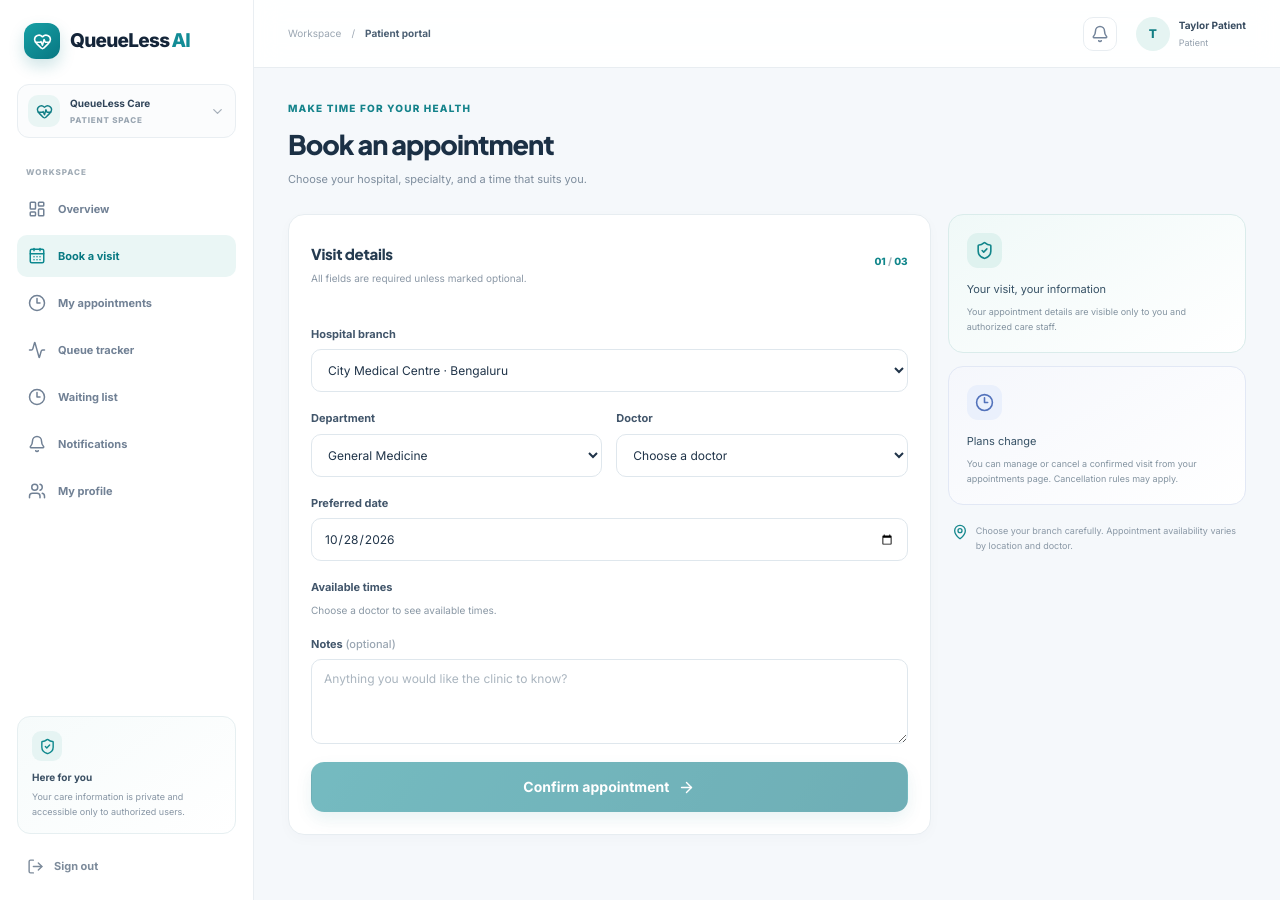
Test: QueueLess application › books an appointment without issuing a queue token before check-in
The image size is (1280, 900).
Select "Dr. Example" in the dropdown labelled "Doctor". click: (762, 455)
box: [616, 434, 908, 477]
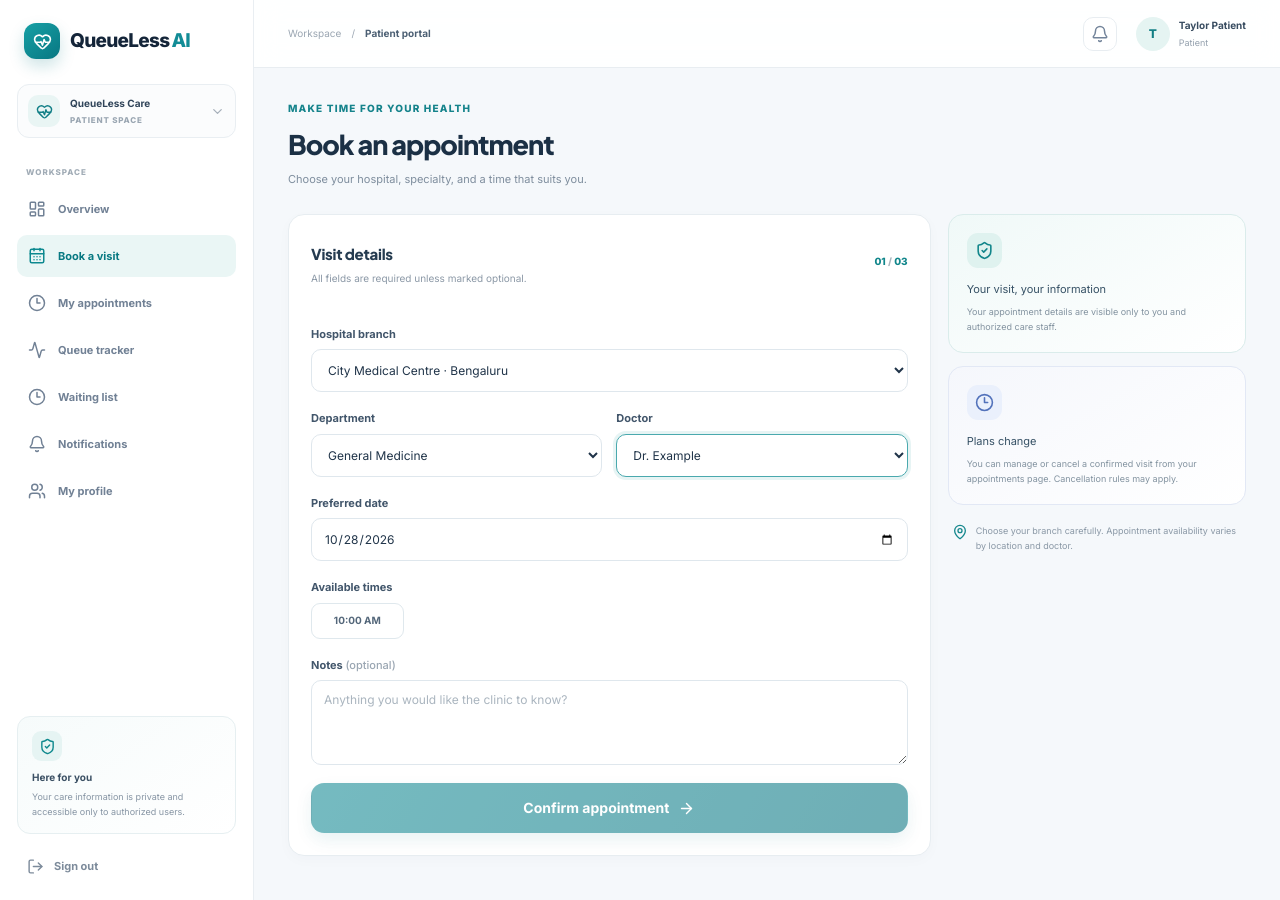
Click the button "10:00 AM". click: click(357, 621)
box: [311, 603, 404, 639]
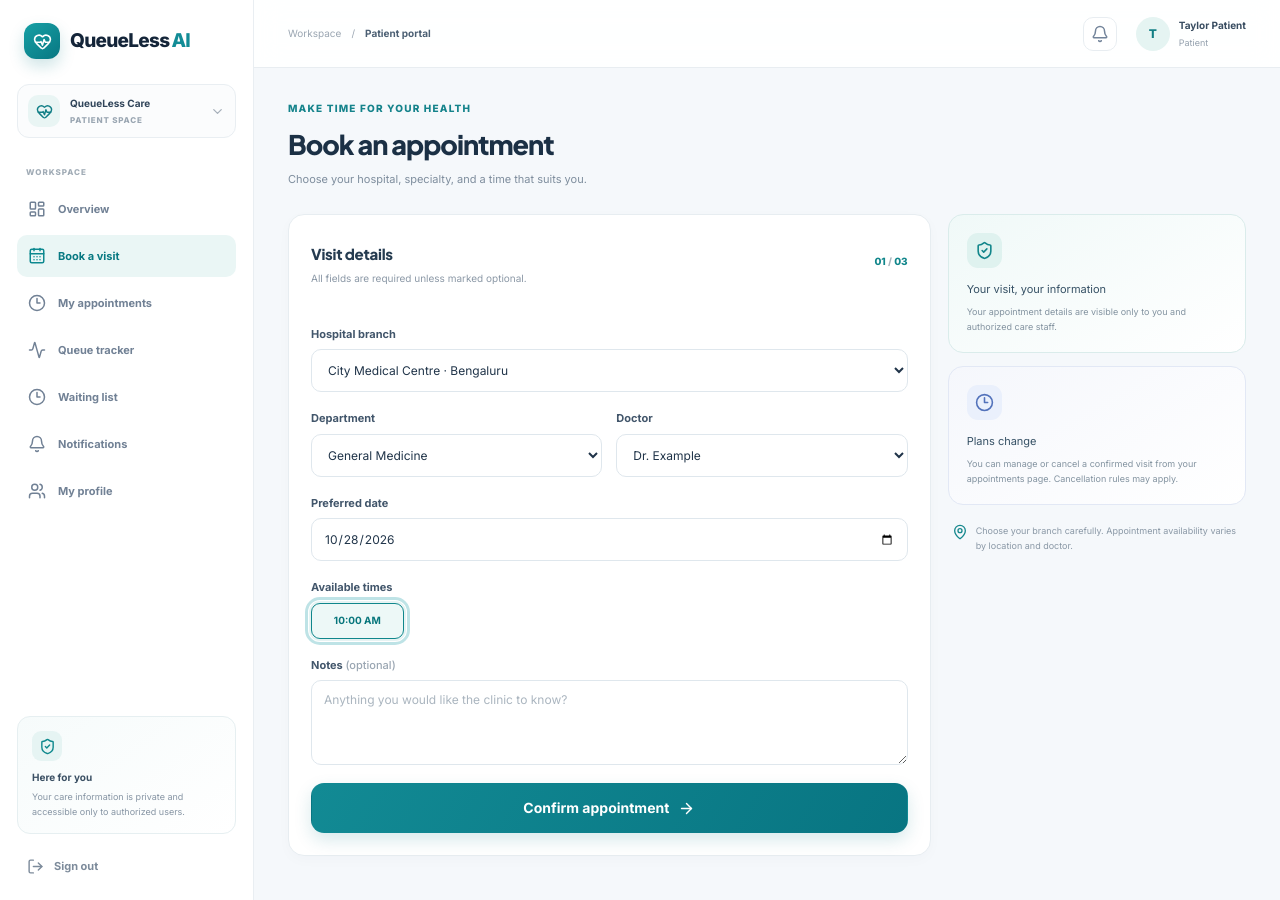
Click the button "Confirm appointment". click: click(609, 808)
box: [311, 783, 908, 833]
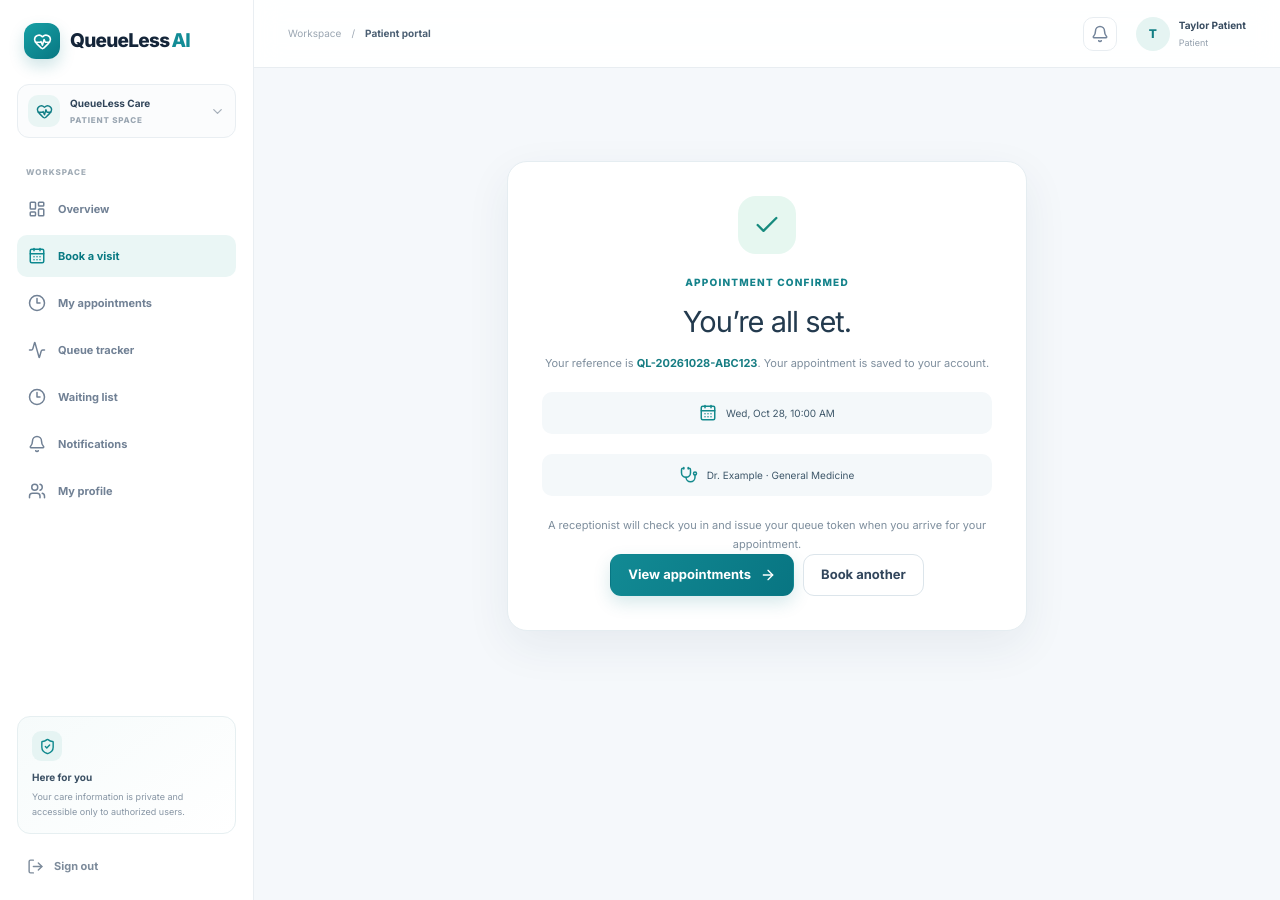
Expected: the text "A receptionist will check you in" is shown, [548, 518, 986, 551]
Expected: the text "Dr. Example · General Medicine" is shown, [707, 468, 854, 483]
